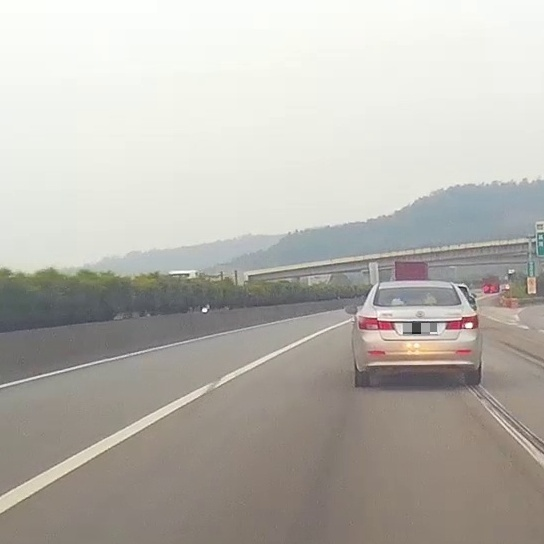L_light: (357, 315, 395, 331)
R_light: (445, 314, 478, 329)
T_light: (409, 300, 425, 305)
day-right: (352, 279, 482, 387)
plate_1: (403, 323, 437, 334)
